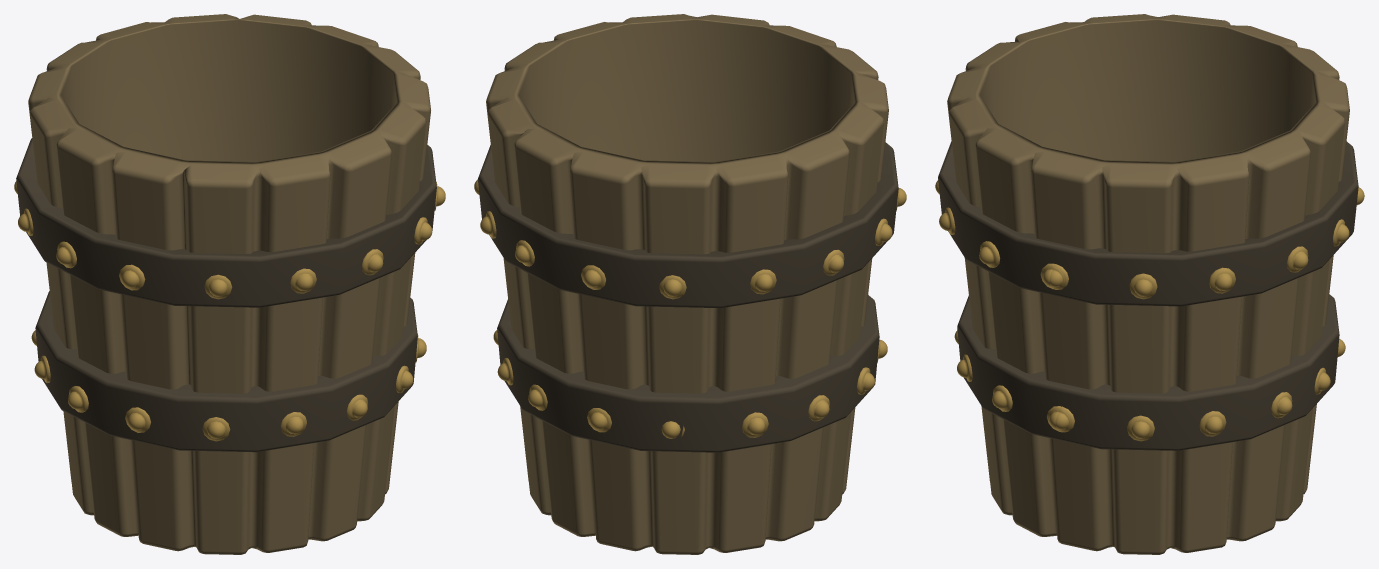
Rendered from Bucket.fbx.
3 renders of one model, left to right at view 1: azimuth 30°, elevation 25°; view 2: azimuth 150°, elevation 25°; view 3: azimuth 270°, elevation 25°, orthographic.
Parts seen in each view (by area): view 1: Bucket; view 2: Bucket; view 3: Bucket.
Part boxes in pixels (box(x1,y1,x2,y2)): Bucket: box(14, 14, 445, 554); Bucket: box(474, 14, 906, 554); Bucket: box(935, 14, 1364, 554).
Size of the model in its own units: 131 by 133 by 130.
